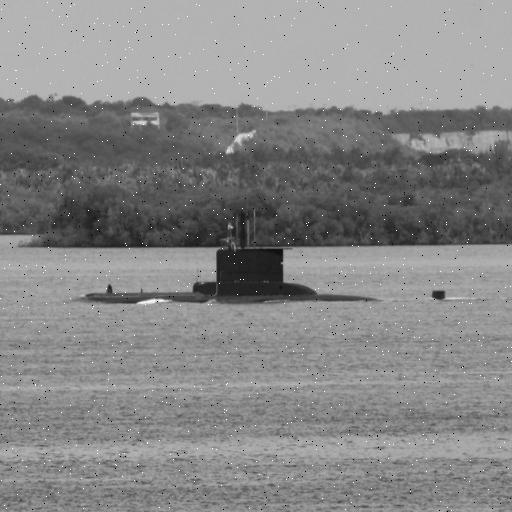submarine: (82, 196, 462, 310)
